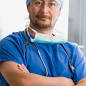mask_weared_incorrect: (25, 1, 69, 46)
